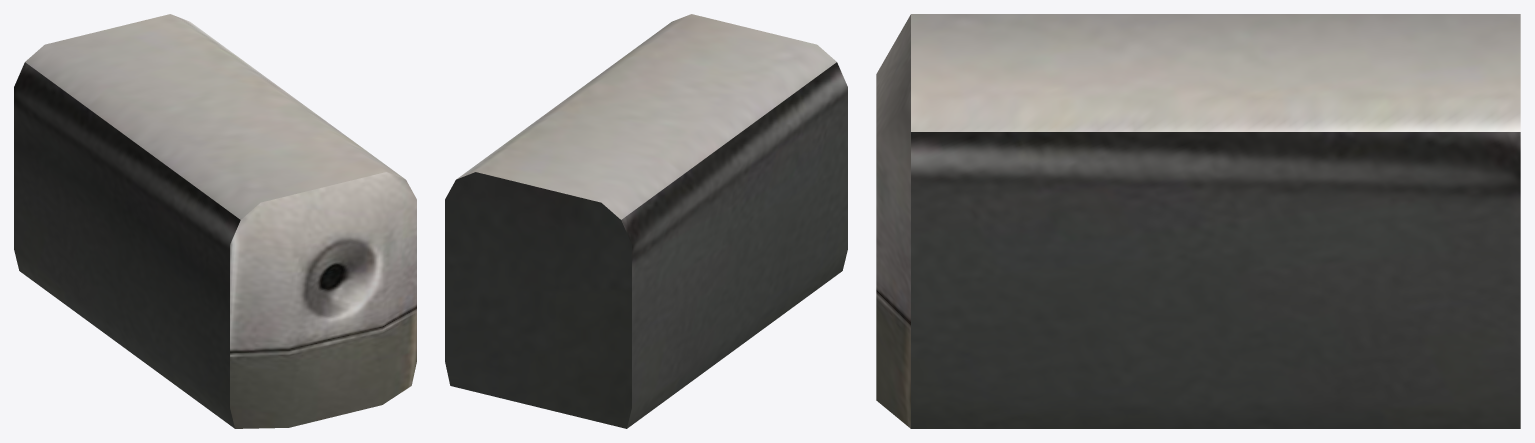
Rendered from Pencil Sharpener_lod1.fbx.
3 views of the same model, side by side, from view 1: azimuth 30°, elevation 25°; view 2: azimuth 150°, elevation 25°; view 3: azimuth 270°, elevation 25° (orthographic). The views are drawn at different scales.
Visible parts, largest first — view 1: Pencil_Shapener; view 2: Pencil_Shapener; view 3: Pencil_Shapener.
Part boxes in pixels (left/top/right/bottom): Pencil_Shapener: left=14, top=14, right=416, bottom=428; Pencil_Shapener: left=445, top=14, right=847, bottom=428; Pencil_Shapener: left=876, top=14, right=1520, bottom=428.
Size of the model in its own units: 2 by 2.25 by 4.23.
